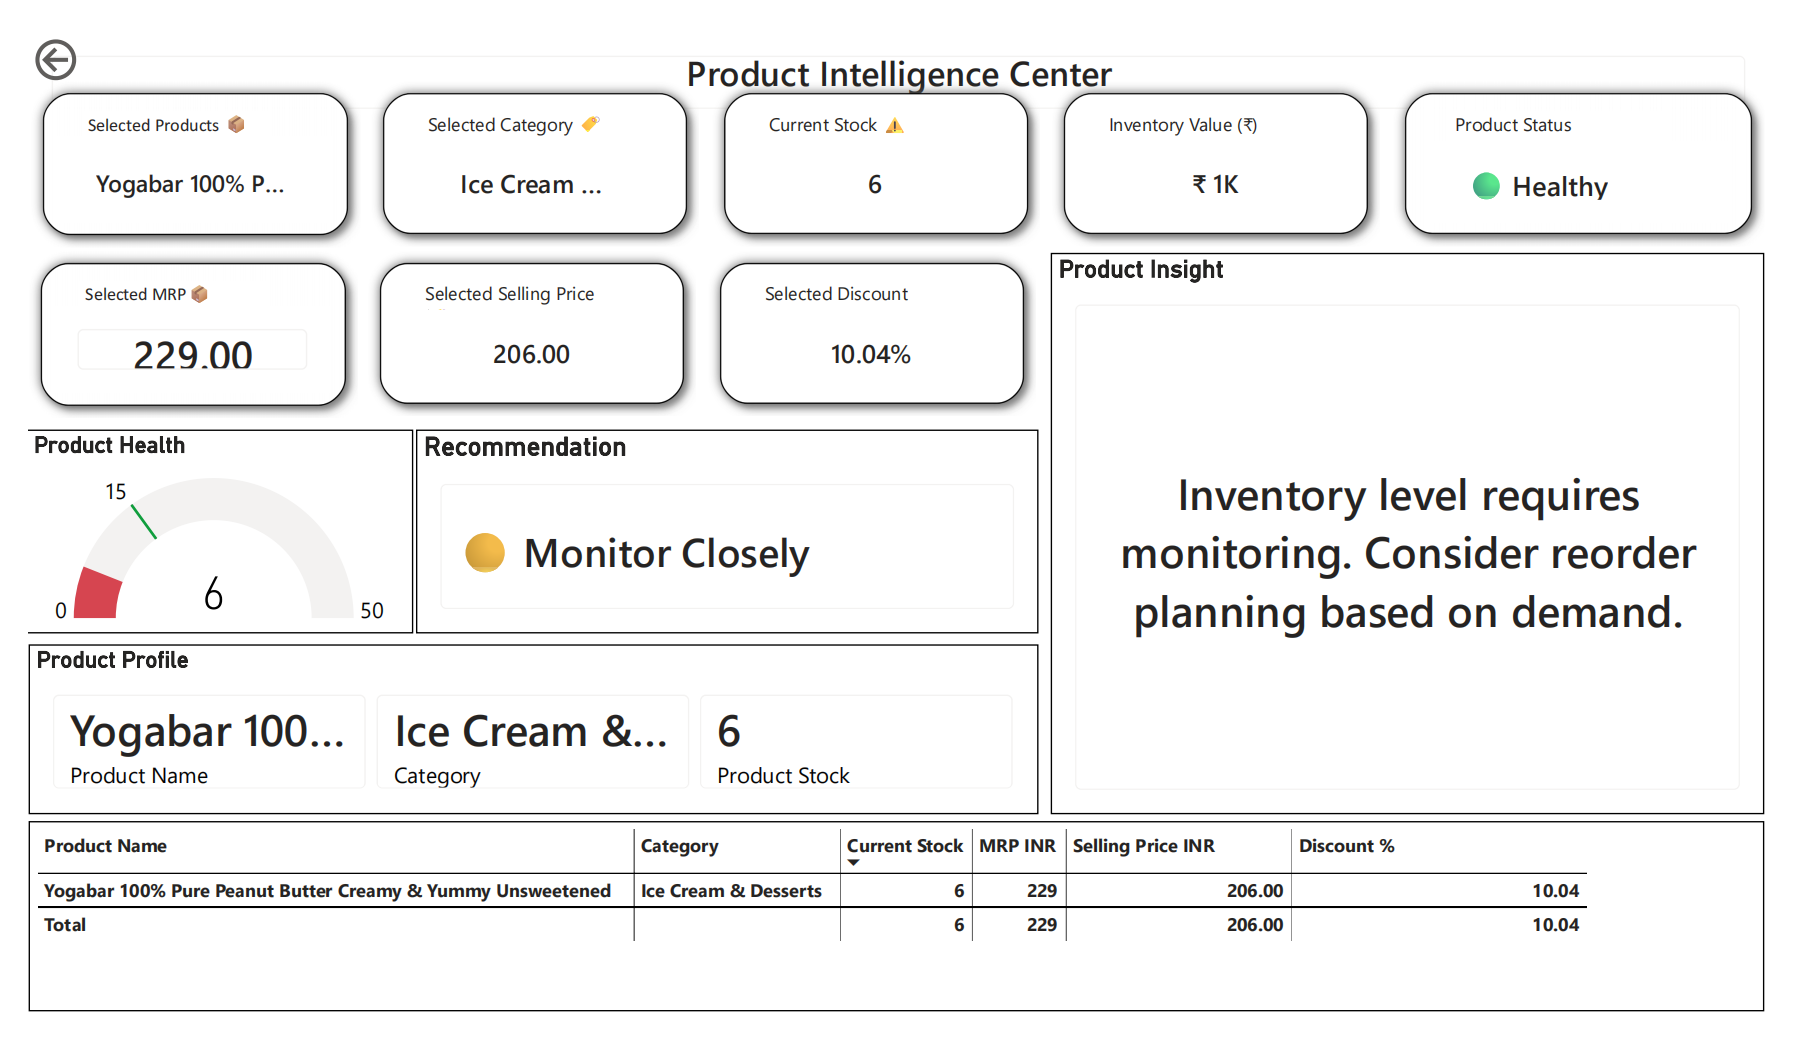

What the dashboard file says about the page in this screenshot:
{"tool":"powerbi","page":{"name":"Product Intelligence Dashboard","canvas":[1280,720],"ordinal":2},"visuals":[{"type":"cardVisual","fields":{"Data":["Working.Page 3 Title"]},"box":[0,0,1280,72.9],"z":0},{"type":"shape","box":[1.7,36.3,241.7,121.7],"z":0,"group":"g6"},{"type":"shape","box":[252.2,36.3,241.4,121],"z":0,"group":"g7"},{"type":"shape","box":[502.8,36.3,241.4,121],"z":0,"group":"g8"},{"type":"shape","box":[753.4,36.3,241.4,121],"z":0,"group":"g9"},{"type":"shape","box":[1003.9,36.3,273.1,121],"z":0,"group":"g10"},{"type":"shape","box":[0,160.9,241.7,121.7],"z":0,"group":"g11"},{"type":"shape","box":[250,161.2,241.4,121],"z":0,"group":"g12"},{"type":"shape","box":[500,161.2,241.4,121],"z":0,"group":"g13"},{"type":"group","id":"g1","title":"Group 12","box":[1.7,36.3,241.7,121.7],"z":1000},{"type":"actionButton","box":[0,0,100,40],"z":2000},{"type":"group","id":"g2","title":"Group 12","box":[252.2,36.3,241.7,121],"z":3000},{"type":"group","id":"g3","title":"Group 12","box":[502.8,36.3,241.7,121],"z":4000},{"type":"group","id":"g4","title":"Group 12","box":[753.4,36.3,241.7,121],"z":5000},{"type":"textbox","box":[288.8,58.2,139.7,39],"z":5000,"group":"g7"},{"type":"textbox","box":[539.4,58.2,139.7,39],"z":5000,"group":"g8"},{"type":"textbox","box":[790,58.2,139.7,39],"z":5000,"group":"g9"},{"type":"textbox","box":[38.3,58.3,139.9,39.2],"z":5000,"group":"g6"},{"type":"textbox","box":[36.6,182.9,139.9,39.2],"z":5000,"group":"g11"},{"type":"textbox","box":[286.6,183.1,139.7,39],"z":5000,"group":"g12"},{"type":"textbox","box":[536.6,183.1,139.7,39],"z":5000,"group":"g13"},{"type":"gauge","title":"Product Health","fields":{"Y":["Working.Current Stock"]},"box":[-1.7,291.7,285,150],"z":6000},{"type":"textbox","box":[1045.3,58.2,158.1,39],"z":6500,"group":"g10"},{"type":"cardVisual","title":"Recommendation","fields":{"Data":["Working.Recommendation"]},"box":[285,291.7,458.3,150],"z":7000},{"type":"group","id":"g5","title":"Group 12","box":[1003.9,36.3,273.1,121],"z":8000},{"type":"cardVisual","fields":{"Data":["Working.Product Status"]},"box":[1030,80,221.7,60],"z":9000},{"type":"group","id":"g6","title":"Group 7","box":[1.7,36.3,241.7,121.7],"z":10000,"group":"g1"},{"type":"group","id":"g7","title":"Group 7","box":[252.2,36.3,241.4,121],"z":10000,"group":"g2"},{"type":"group","id":"g8","title":"Group 7","box":[502.8,36.3,241.4,121],"z":10000,"group":"g3"},{"type":"group","id":"g9","title":"Group 7","box":[753.4,36.3,241.4,121],"z":10000,"group":"g4"},{"type":"group","id":"g10","title":"Group 7","box":[1003.9,36.3,273.1,121],"z":10000,"group":"g5"},{"type":"group","id":"g11","title":"Group 7","box":[0,160.9,241.7,121.7],"z":10000,"group":"g14"},{"type":"group","id":"g12","title":"Group 7","box":[250,161.2,241.4,121],"z":10000,"group":"g15"},{"type":"group","id":"g13","title":"Group 7","box":[500,161.2,241.4,121],"z":10000,"group":"g16"},{"type":"tableEx","fields":{"Values":["Working.Product Name","Working.Category","Sum(Working.Stock)","Sum(Working.MRP INR)","Sum(Working.Selling Price INR)","Sum(Working.Calculated Discount)"]},"box":[0,580,1276.7,140],"z":10000},{"type":"cardVisual","title":"Product Profile","fields":{"Data":["Min(Working.Product Name)","Min(Working.Category)","Sum(Working.Stock)"]},"box":[0,450,743.3,125],"z":11000},{"type":"group","id":"g14","title":"Group 12","box":[0,160.9,241.7,121.7],"z":12000},{"type":"cardVisual","fields":{"Data":["Working.Selected Product"]},"box":[20.7,76.7,203.1,63.6],"z":12003,"group":"g1"},{"type":"cardVisual","fields":{"Data":["Working.Selected Category"]},"box":[289.5,79.2,166.9,61.2],"z":12003,"group":"g2"},{"type":"cardVisual","fields":{"Data":["Working.Selected Stock"]},"box":[540.1,79.2,166.9,61.2],"z":12003,"group":"g3"},{"type":"cardVisual","fields":{"Data":["Working.Selected Inventory Value"]},"box":[790.7,79.2,166.9,61.2],"z":12003,"group":"g4"},{"type":"cardVisual","fields":{"Data":["Working.Selected MRP"]},"box":[19,201.3,203.1,63.6],"z":12003,"group":"g14"},{"type":"cardVisual","fields":{"Data":["Working.Selected Selling Price"]},"box":[287.3,204.1,166.9,61.2],"z":12003,"group":"g15"},{"type":"cardVisual","fields":{"Data":["Working.Selected Discount"]},"box":[537.3,204.1,166.9,61.2],"z":12003,"group":"g16"},{"type":"group","id":"g15","title":"Group 12","box":[250,161.2,241.7,121],"z":13000},{"type":"group","id":"g16","title":"Group 12","box":[500,161.2,241.7,121],"z":14000},{"type":"cardVisual","title":"Product Insight","fields":{"Data":["Working.Product Insight"]},"box":[751.7,161.7,525,413.3],"z":15000}]}

Visuals, with their boxes on the page's 1280x720 design canvas (x1, y1, x2, y2). These are canvas units, not pixel positions in the 1798x1043 screenshot, which may show the page scaled, cropped or inside an application window:
cardVisual - Working.Page 3 Title: [0, 0, 1280, 73]
shape: [2, 36, 243, 158]
shape: [252, 36, 494, 157]
shape: [503, 36, 744, 157]
shape: [753, 36, 995, 157]
shape: [1004, 36, 1277, 157]
shape: [0, 161, 242, 283]
shape: [250, 161, 491, 282]
shape: [500, 161, 741, 282]
"Group 12" group: [2, 36, 243, 158]
actionButton: [0, 0, 100, 40]
"Group 12" group: [252, 36, 494, 157]
"Group 12" group: [503, 36, 744, 157]
"Group 12" group: [753, 36, 995, 157]
textbox: [289, 58, 428, 97]
textbox: [539, 58, 679, 97]
textbox: [790, 58, 930, 97]
textbox: [38, 58, 178, 98]
textbox: [37, 183, 176, 222]
textbox: [287, 183, 426, 222]
textbox: [537, 183, 676, 222]
"Product Health" gauge: [-2, 292, 283, 442]
textbox: [1045, 58, 1203, 97]
"Recommendation" cardVisual: [285, 292, 743, 442]
"Group 12" group: [1004, 36, 1277, 157]
cardVisual - Working.Product Status: [1030, 80, 1252, 140]
"Group 7" group: [2, 36, 243, 158]
"Group 7" group: [252, 36, 494, 157]
"Group 7" group: [503, 36, 744, 157]
"Group 7" group: [753, 36, 995, 157]
"Group 7" group: [1004, 36, 1277, 157]
"Group 7" group: [0, 161, 242, 283]
"Group 7" group: [250, 161, 491, 282]
"Group 7" group: [500, 161, 741, 282]
tableEx - Working.Product Name x Working.Category: [0, 580, 1277, 720]
"Product Profile" cardVisual: [0, 450, 743, 575]
"Group 12" group: [0, 161, 242, 283]
cardVisual - Working.Selected Product: [21, 77, 224, 140]
cardVisual - Working.Selected Category: [290, 79, 456, 140]
cardVisual - Working.Selected Stock: [540, 79, 707, 140]
cardVisual - Working.Selected Inventory Value: [791, 79, 958, 140]
cardVisual - Working.Selected MRP: [19, 201, 222, 265]
cardVisual - Working.Selected Selling Price: [287, 204, 454, 265]
cardVisual - Working.Selected Discount: [537, 204, 704, 265]
"Group 12" group: [250, 161, 492, 282]
"Group 12" group: [500, 161, 742, 282]
"Product Insight" cardVisual: [752, 162, 1277, 575]
